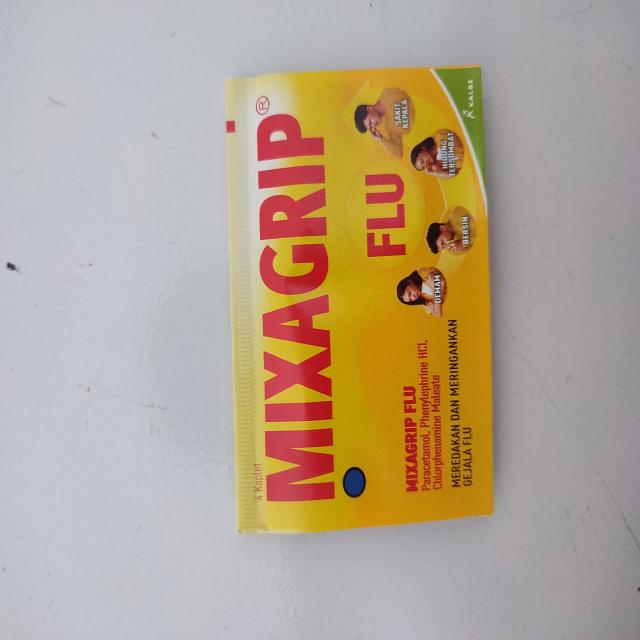B3: (220, 69, 492, 536)
